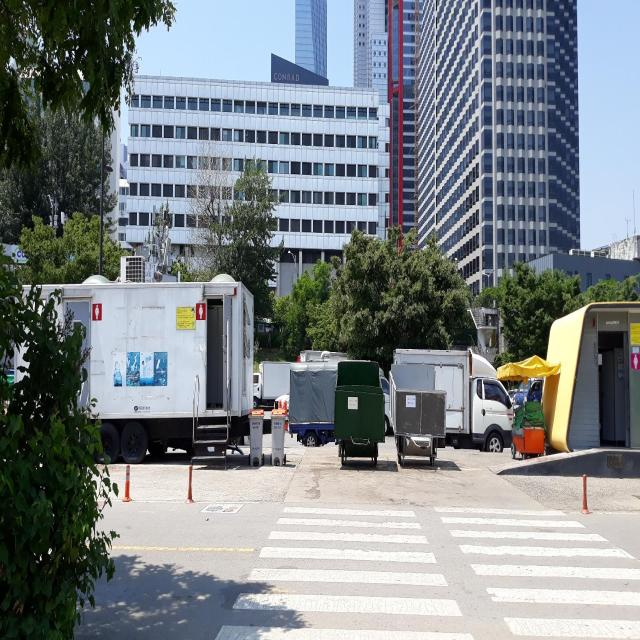횡단보도: (216, 505, 640, 639)
